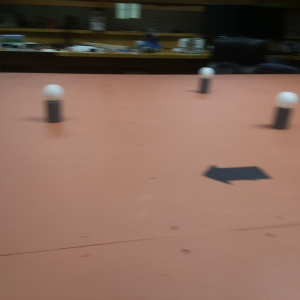obstacle: (44, 83, 67, 125), (272, 90, 295, 132), (196, 63, 212, 94)
start: (199, 164, 272, 184)
